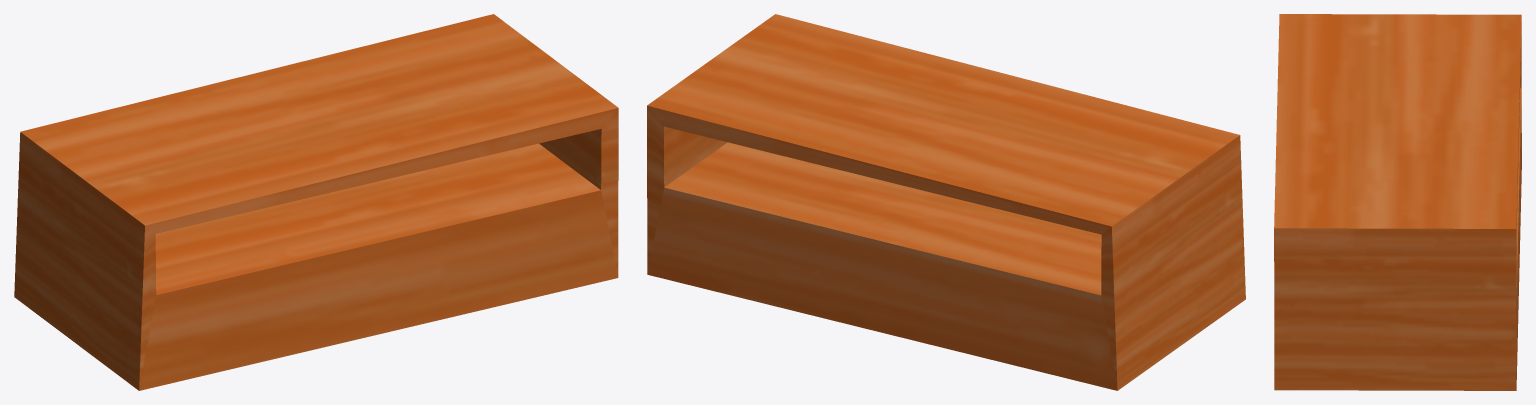
File: TVStand.fbx
3 renders of one model, left to right at view 1: azimuth 30°, elevation 25°; view 2: azimuth 150°, elevation 25°; view 3: azimuth 270°, elevation 25°, orthographic. The views are drawn at different scales.
Visible parts, largest first — view 1: Maya_File_Assets:TexturedAssetsCurrent:JohnPepper02Assets:TV; view 2: Maya_File_Assets:TexturedAssetsCurrent:JohnPepper02Assets:TV; view 3: Maya_File_Assets:TexturedAssetsCurrent:JohnPepper02Assets:TV.
Boxes of the visible parts, left/top/right/bottom form: Maya_File_Assets:TexturedAssetsCurrent:JohnPepper02Assets:TV: left=14, top=14, right=618, bottom=390; Maya_File_Assets:TexturedAssetsCurrent:JohnPepper02Assets:TV: left=647, top=14, right=1245, bottom=390; Maya_File_Assets:TexturedAssetsCurrent:JohnPepper02Assets:TV: left=1274, top=14, right=1521, bottom=390.
Bounding box in the file's own units: 2.3 × 0.7816 × 1.08.
